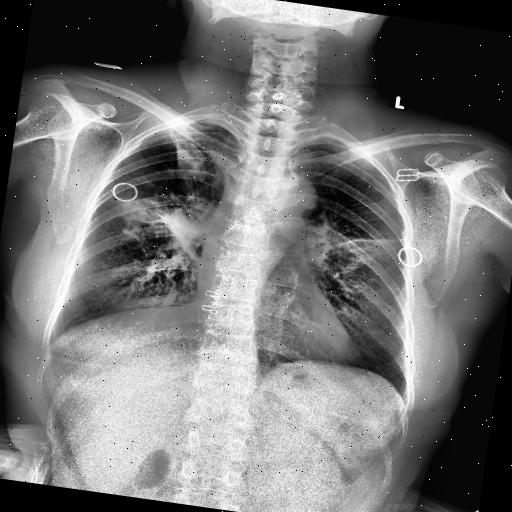0- Aortic enlargement: (249, 166, 322, 228), (269, 170, 321, 220)
1- Atelectasis: (112, 192, 208, 262), (162, 122, 212, 192)
11- Pleural thickening: (118, 120, 232, 268)
13- Pulmonary fibrosis: (112, 192, 208, 262), (104, 198, 206, 262), (158, 122, 216, 210), (324, 220, 408, 280), (162, 122, 212, 192), (326, 224, 403, 264), (336, 229, 402, 256)
2- Calcification: (118, 120, 232, 268)
6- Infiltration: (104, 198, 206, 262), (158, 122, 216, 210)
